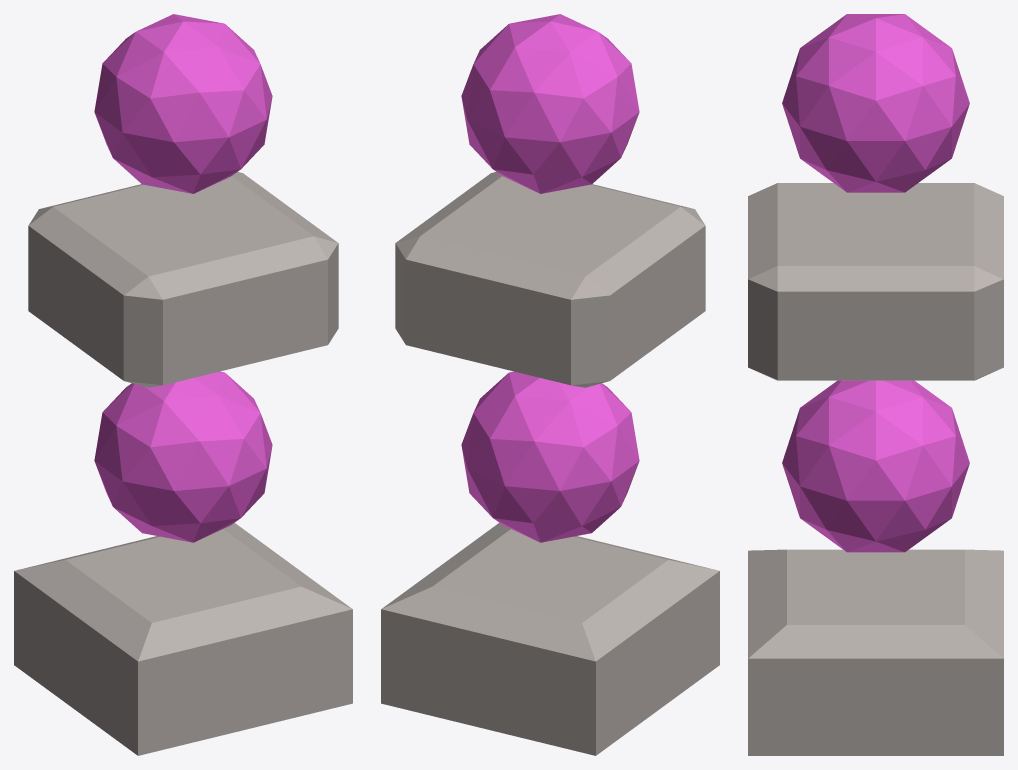
File: tile_wall.fbx
3 views of the same model, side by side, from view 1: azimuth 30°, elevation 25°; view 2: azimuth 150°, elevation 25°; view 3: azimuth 270°, elevation 25° (orthographic). The views are drawn at different scales.
Parts seen in each view (by area): view 1: Cube, Cube.001, Icosphere.001, Icosphere; view 2: Cube, Cube.001, Icosphere.001, Icosphere; view 3: Cube, Cube.001, Icosphere.001, Icosphere.
Part boxes in pixels (x1,y1,x2,y2): Cube: (14,523,352,755); Cube.001: (28,172,338,387); Icosphere.001: (94,14,272,193); Icosphere: (94,371,272,542); Cube: (381,523,719,755); Cube.001: (395,172,705,387); Icosphere.001: (461,14,639,193); Icosphere: (461,371,639,542); Cube: (748,549,1003,755); Cube.001: (748,183,1003,380); Icosphere.001: (782,14,969,192); Icosphere: (782,380,969,552).
Bounding box in the file's own units: 130 × 384 × 130.
